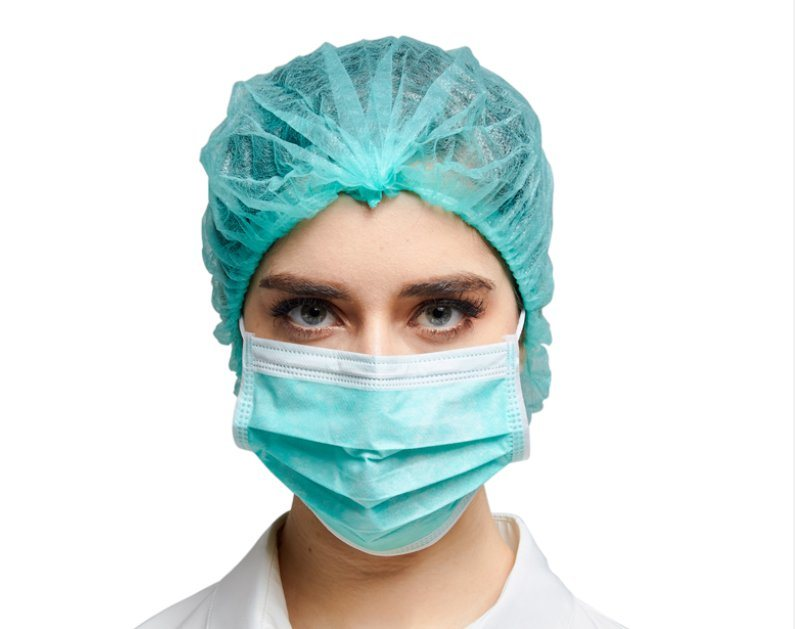with_mask_and_cap: (218, 37, 545, 552)
